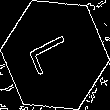L_NE: (28, 30, 82, 80)
